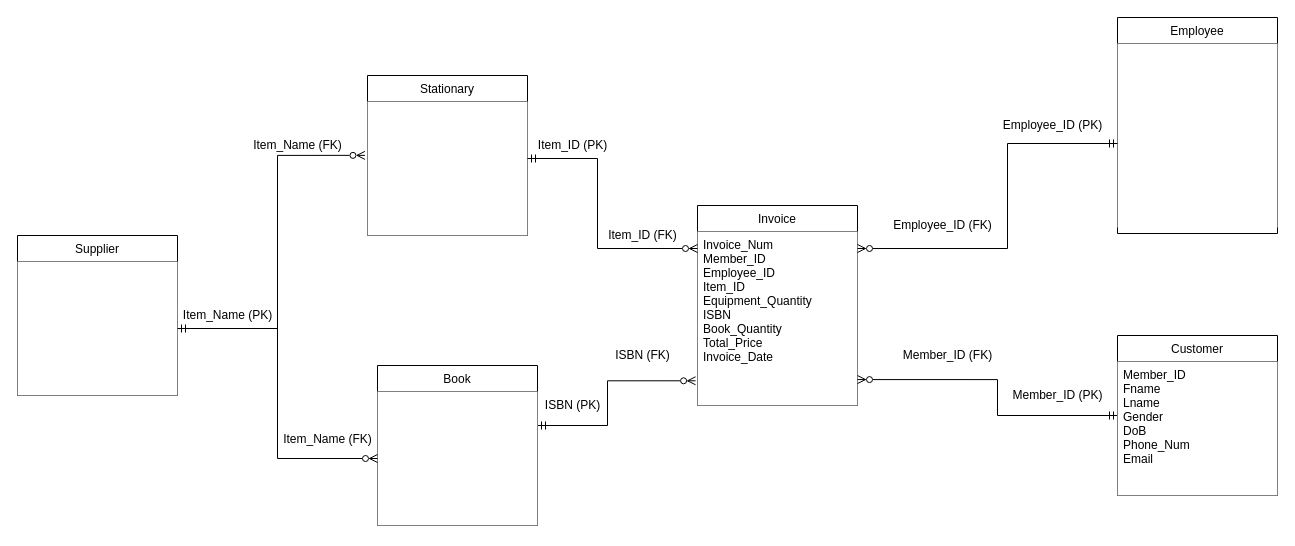
This 1295x546 diagram has some shape labels left out. The centre of each missing label's shape, as x and y in pixels:
"Employee_ID Fname Lname Gender DoB Phone_Num Email Salary" goes at (1197,135).
"Item_ID Company_Name Phone_Num Item_Name Item_Quantity Item_Price Total_Payment" goes at (97,328).
"Item_ID ISBN Author Item_Name Book_Price Stock_Num" goes at (457,458).
"Item_ID Price Stock_Num Item_Name" goes at (447,168).
